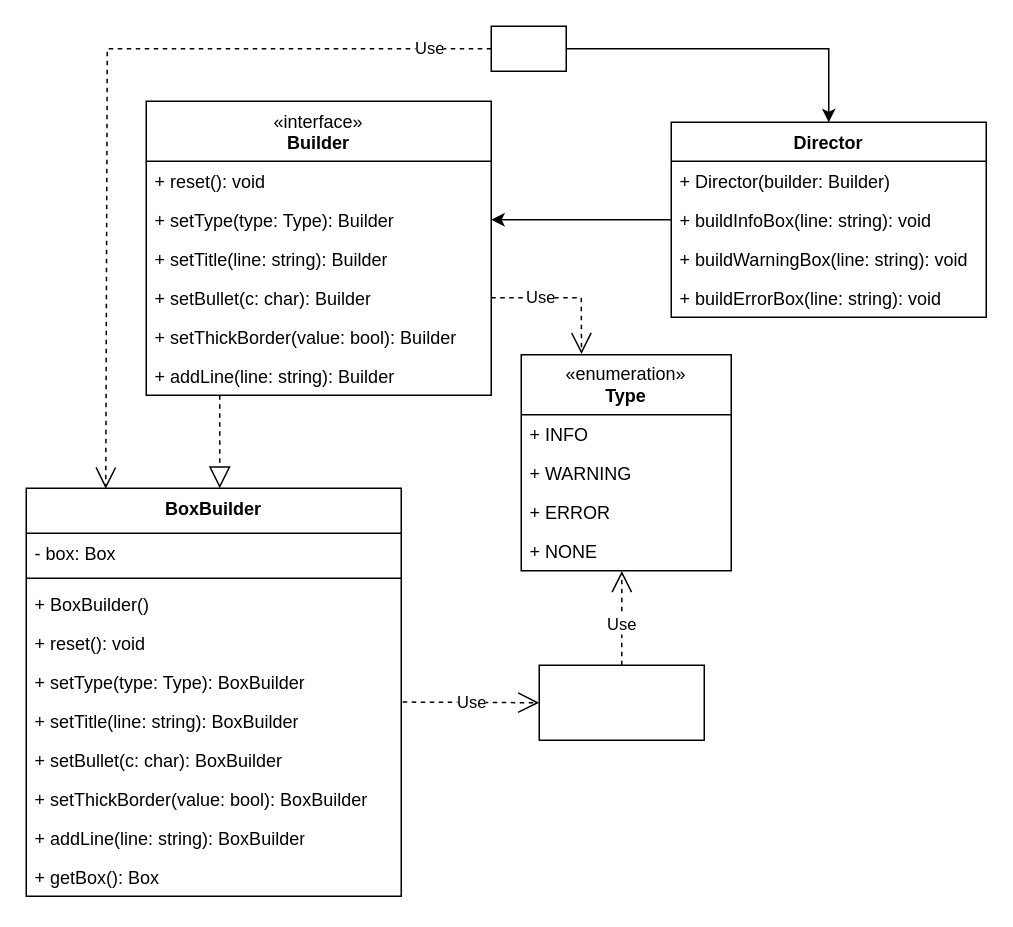
Image size: 1013x927. Some labels were removed from this diagram. Here are the shapes that lost their labels. From the top down, the centre of each, then its label:
At (528,48): "Client".
At (621,702): "Box".
